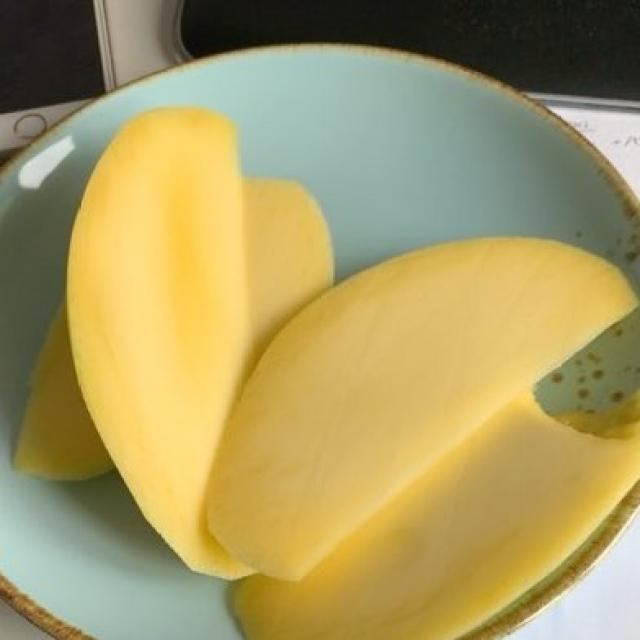mango: (74, 110, 585, 606)
